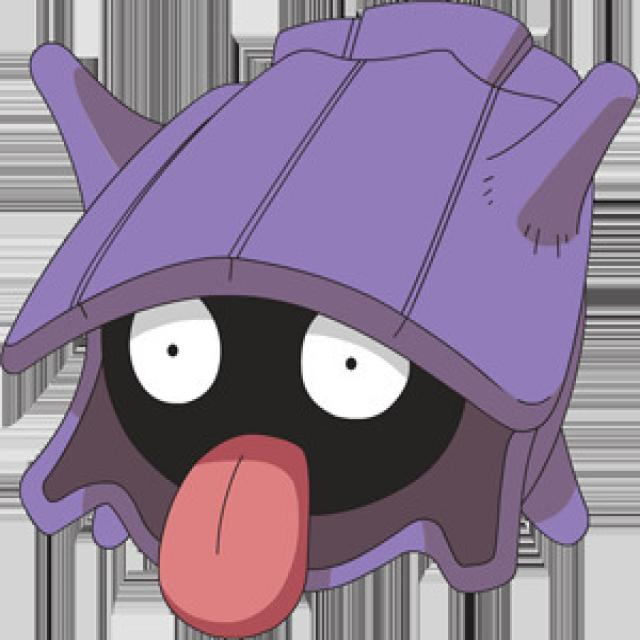Shellder: (15, 54, 633, 596)
